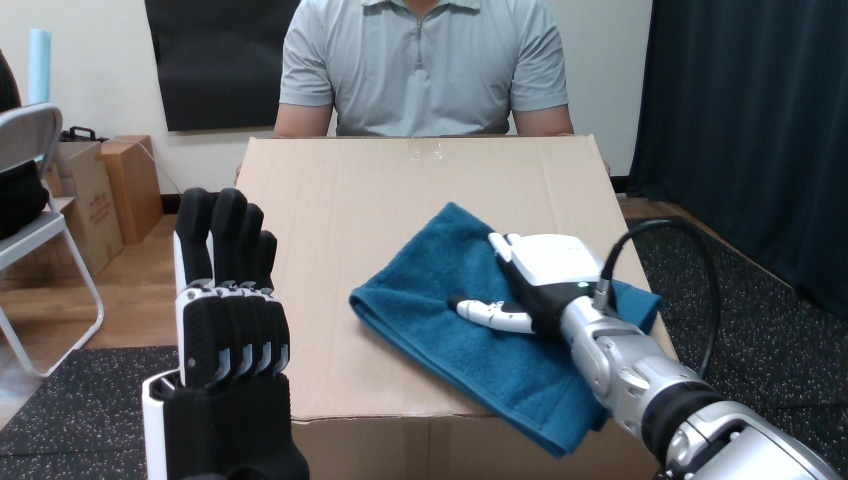left robot hand: (142, 188, 308, 478), (701, 229, 847, 478), (633, 228, 709, 368)
